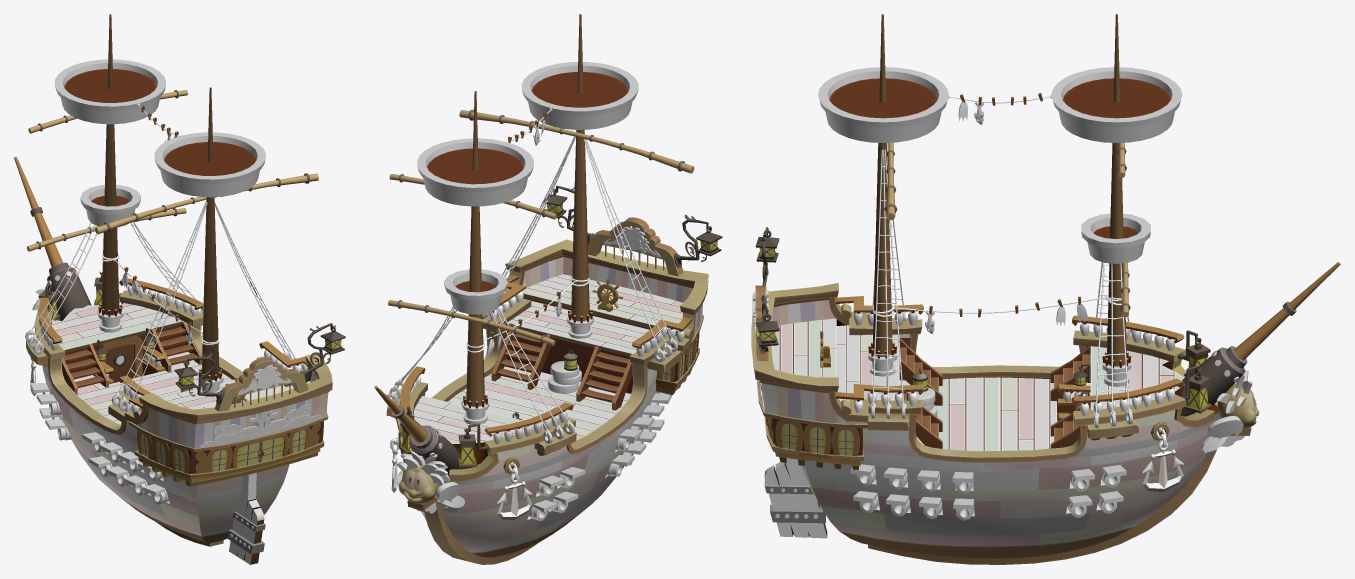
Rendered from Migrator.fbx.
3 views of the same model, side by side, from view 1: azimuth 30°, elevation 25°; view 2: azimuth 150°, elevation 25°; view 3: azimuth 270°, elevation 25° (orthographic). The views are drawn at different scales.
Visible parts, largest first — view 1: polySurface11; view 2: polySurface11; view 3: polySurface11.
Part boxes in pixels (bbox=[...]): polySurface11: bbox=[14, 14, 345, 564]; polySurface11: bbox=[374, 14, 722, 564]; polySurface11: bbox=[751, 14, 1340, 564].
Bounding box in the file's own units: 1224 × 2470 × 2418.
